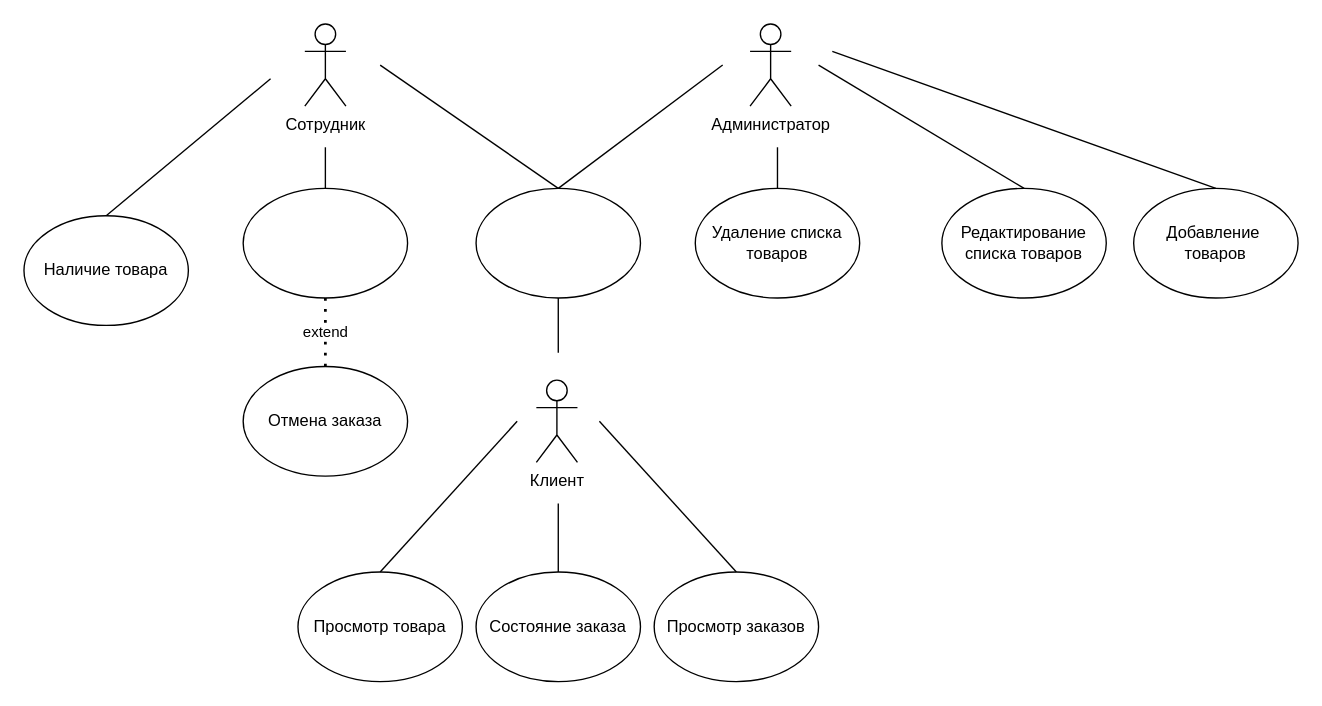
Image size: 1322x706. Some labels were removed from this diagram. The shapes that lost their labels are listed below. From the top down, each one's centre as x and y in pixels, then its label:
At pixel 325 242: "Оформление заказа".
At pixel 557 242: "Вход в систему".
